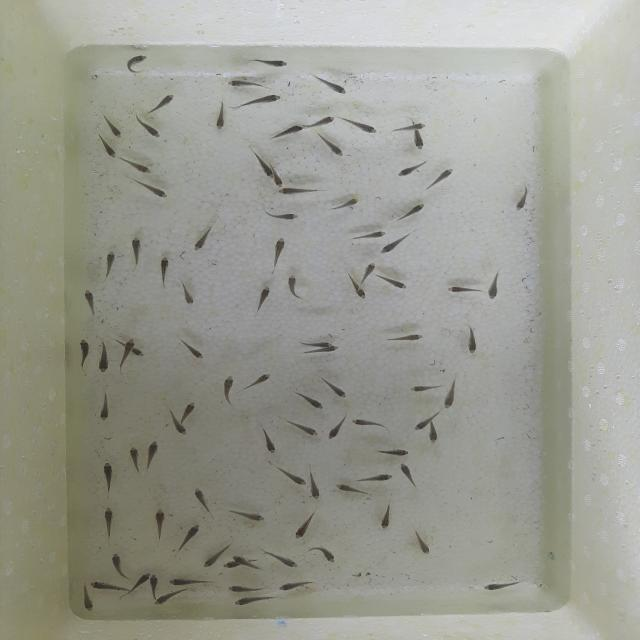fingerling: (303, 75, 352, 98), (263, 462, 308, 486), (318, 370, 352, 400), (125, 50, 154, 84), (244, 149, 275, 179), (279, 417, 321, 438), (147, 91, 178, 117), (292, 389, 328, 411), (189, 224, 216, 253), (293, 510, 320, 539), (264, 547, 303, 567), (153, 588, 192, 608), (237, 93, 282, 110), (178, 524, 202, 555), (267, 122, 304, 142), (253, 425, 279, 453), (132, 180, 172, 198), (228, 506, 268, 524), (174, 340, 209, 360), (339, 116, 380, 133), (99, 248, 122, 278), (86, 579, 134, 593), (234, 594, 276, 609), (136, 119, 167, 139), (426, 166, 454, 188), (328, 411, 347, 443), (100, 113, 124, 138), (217, 374, 237, 404), (167, 414, 192, 437), (346, 274, 367, 301), (378, 504, 399, 531), (95, 339, 112, 372), (245, 371, 278, 388), (398, 159, 427, 178), (396, 462, 417, 488), (308, 467, 325, 499), (304, 113, 340, 128), (334, 483, 370, 498), (482, 579, 523, 592), (398, 202, 431, 218), (194, 487, 212, 516), (350, 418, 390, 431), (414, 529, 433, 556), (152, 508, 167, 542), (361, 470, 397, 484), (308, 547, 336, 565), (123, 158, 154, 174), (249, 59, 294, 70), (117, 338, 134, 367), (484, 275, 502, 302), (322, 134, 344, 156), (228, 582, 262, 596), (101, 463, 116, 494), (125, 446, 141, 475), (464, 326, 478, 359), (176, 287, 199, 307), (278, 186, 323, 196), (102, 506, 117, 536), (272, 581, 309, 593), (235, 554, 261, 571), (271, 237, 287, 264), (377, 238, 404, 254), (96, 395, 112, 422), (202, 544, 220, 568), (79, 589, 97, 613), (445, 378, 458, 411), (109, 552, 126, 577), (385, 333, 427, 343), (427, 418, 442, 446), (156, 255, 172, 281), (255, 284, 273, 307), (94, 141, 118, 158), (223, 79, 268, 88), (82, 288, 98, 313), (357, 228, 390, 240), (258, 212, 302, 221), (515, 188, 532, 211), (387, 124, 426, 134), (382, 276, 409, 290), (79, 339, 91, 370), (146, 437, 158, 468), (130, 237, 146, 260), (286, 274, 301, 298), (295, 338, 335, 347), (214, 102, 227, 129), (306, 346, 341, 356), (181, 400, 200, 418), (444, 285, 475, 296), (334, 198, 362, 210), (379, 446, 412, 456), (408, 417, 430, 432), (360, 262, 376, 282), (171, 577, 211, 585), (129, 572, 150, 586), (411, 132, 426, 149), (410, 384, 440, 392), (150, 573, 158, 600), (273, 173, 288, 187), (130, 348, 146, 358), (221, 561, 240, 569)
